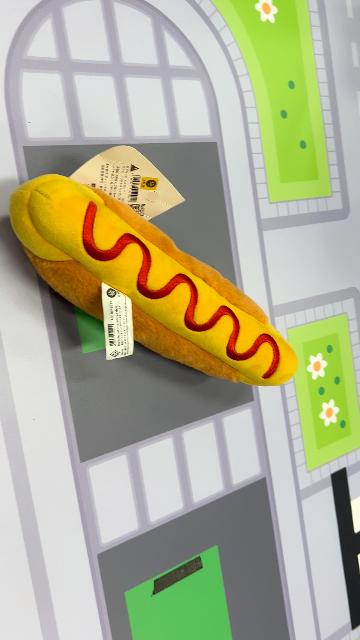hotdog: (8, 173, 300, 389)
